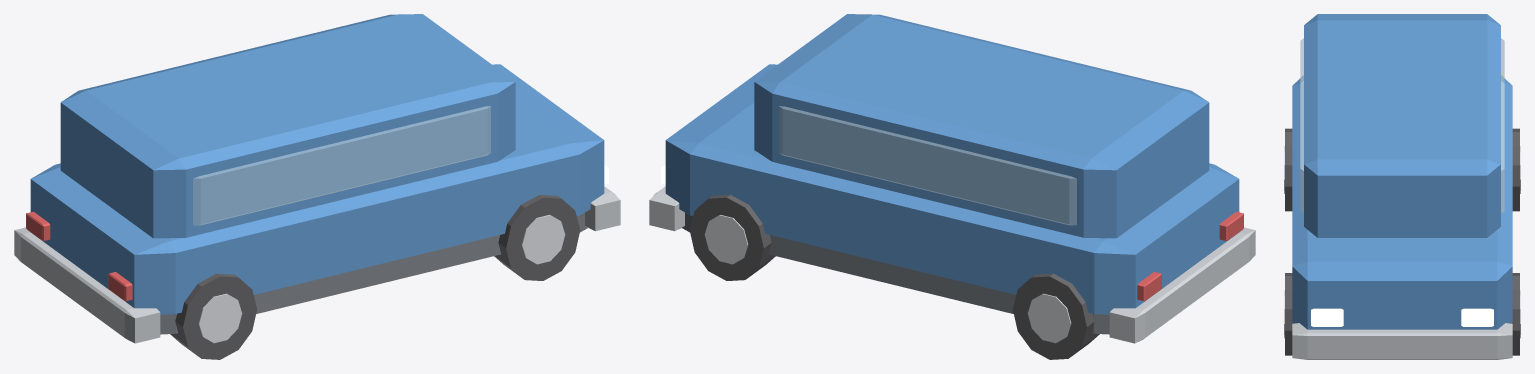
The model's file is b03_three_row_family_suv.glb.
The picture shows the model from 3 angles, left to right: view 1: azimuth 30°, elevation 25°; view 2: azimuth 150°, elevation 25°; view 3: azimuth 270°, elevation 25°; orthographic projection. The views are drawn at different scales.
Parts seen in each view (by area): view 1: b03_three_row_family_suv; view 2: b03_three_row_family_suv; view 3: b03_three_row_family_suv.
Boxes of the visible parts, box(x1,y1,x2,y2) form: b03_three_row_family_suv: box(14, 14, 620, 359); b03_three_row_family_suv: box(649, 14, 1255, 359); b03_three_row_family_suv: box(1284, 14, 1520, 359).
Size of the model in its own units: 5.21 by 1.98 by 2.39.
